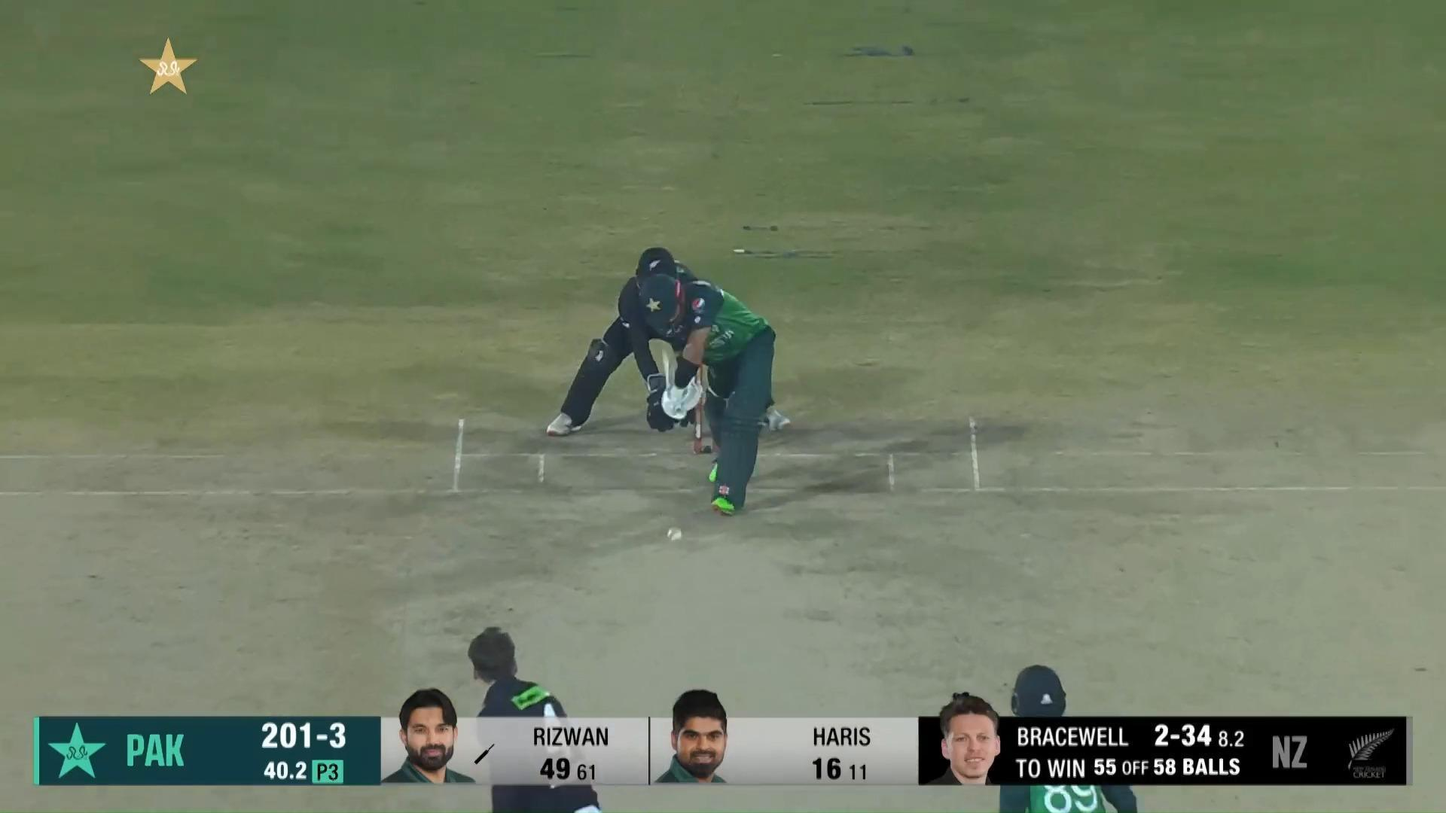BM 1: (639, 273, 776, 516)
BO: (469, 623, 603, 813)
